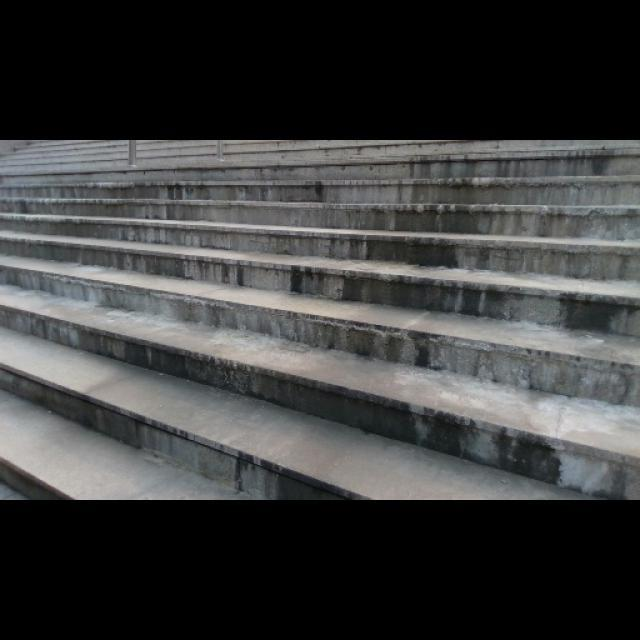stair: (0, 140, 637, 492)
